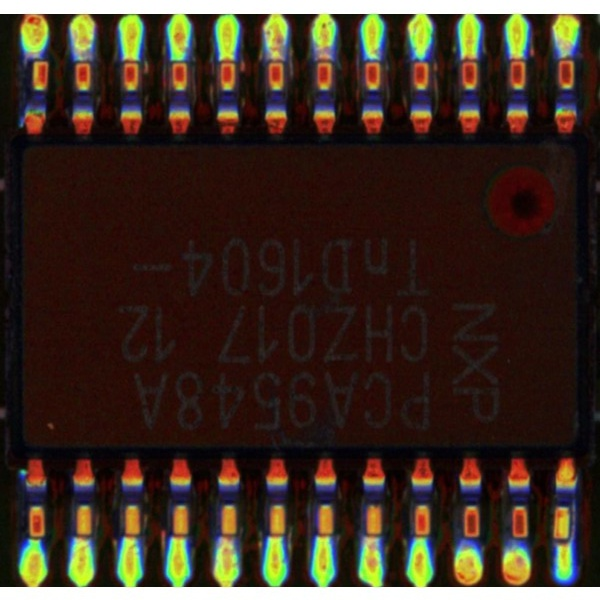Bad_podu: (269, 38, 284, 71), (366, 517, 379, 554), (462, 42, 477, 74), (319, 40, 331, 74), (562, 531, 570, 558)
Bad_qiaojiao: (570, 496, 577, 539)
